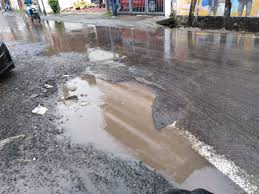potholes: (34, 55, 251, 194)
